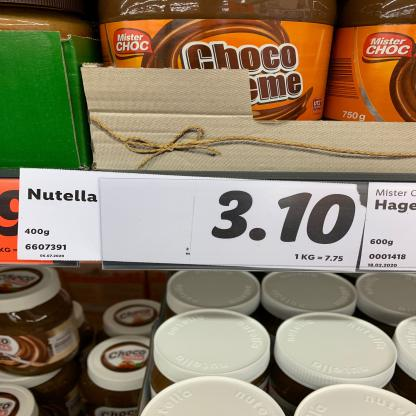prtg: (17, 169, 368, 273), (359, 182, 415, 272), (1, 180, 54, 266)
